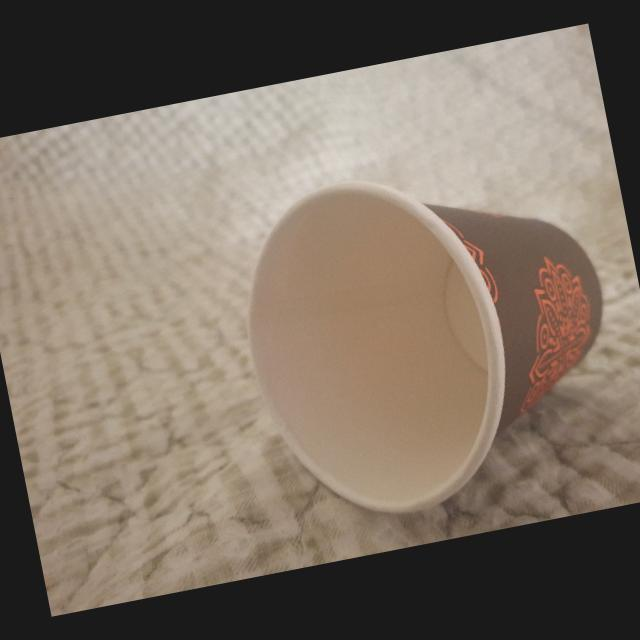trash: (218, 128, 640, 542)
